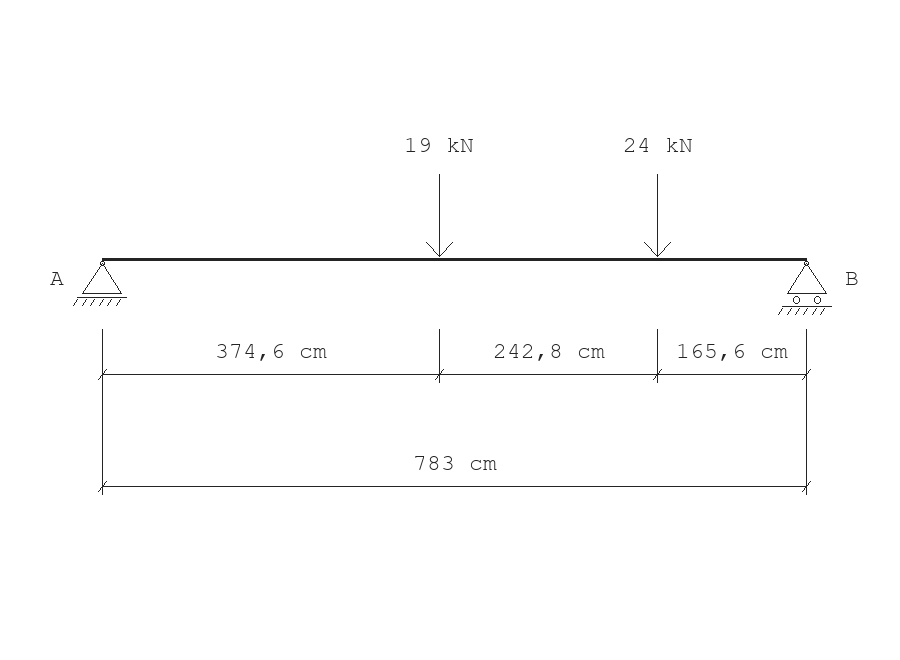pin_support: (73, 261, 127, 306)
point_load: (426, 174, 453, 257), (644, 174, 671, 257)
roller_support: (778, 261, 832, 315)
